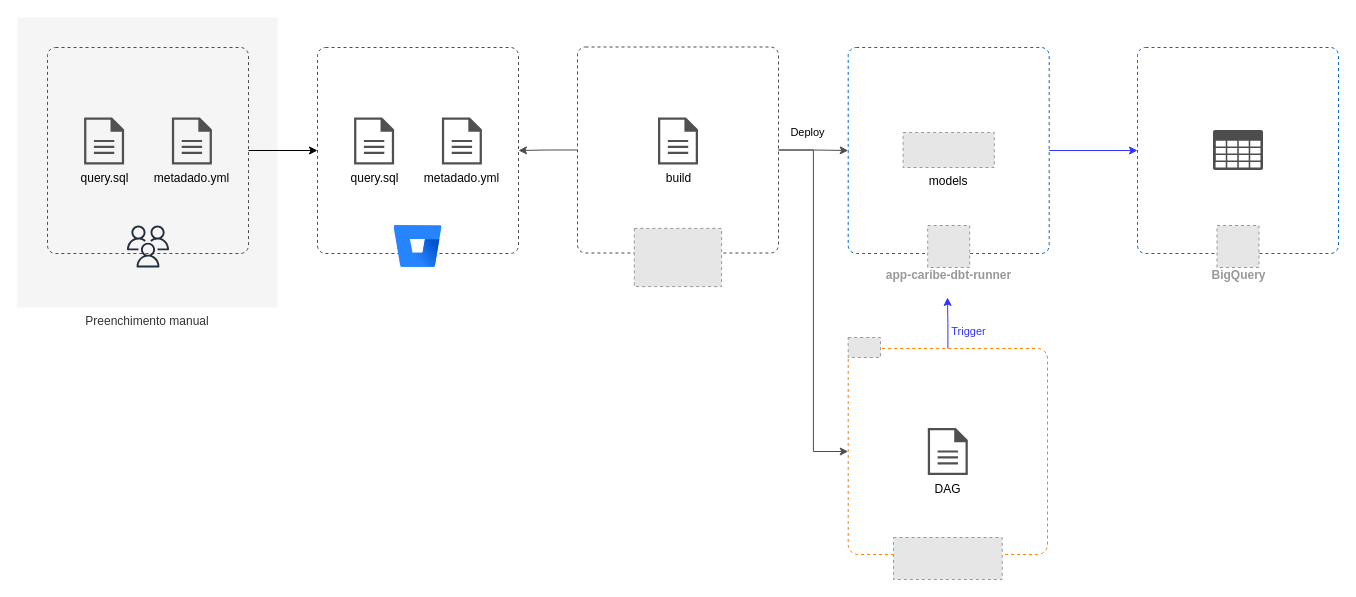
This 1356x597 diagram has some shape labels left out. Grey dashed boxes stand in for pictures. Each missing label, with the centre of its shape:
"app-caribe-transformer" belongs at pixel 418 246.
"Eng. Dados" belongs at pixel 147 246.
"Tabelas" belongs at pixel 1237 150.
